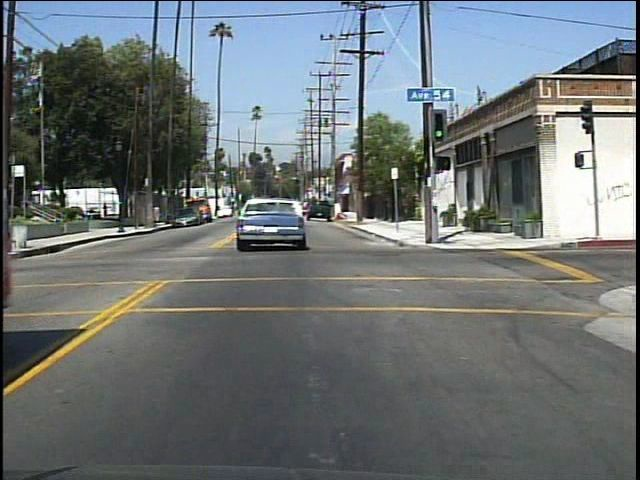person: (154, 202, 163, 229), (100, 200, 111, 220), (128, 199, 137, 220)
